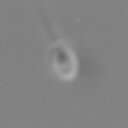normal: (25, 1, 65, 44)
